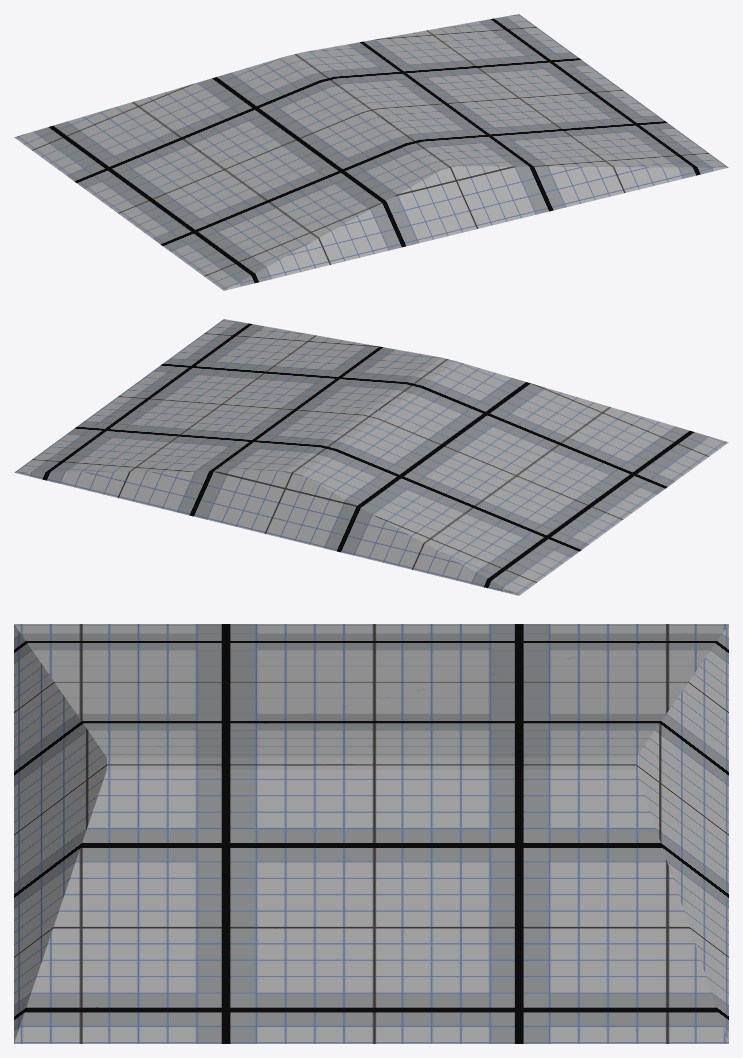
Rendered from gm_bump_03.dae.
The picture shows the model from 3 angles, top to bottom: view 1: azimuth 30°, elevation 25°; view 2: azimuth 150°, elevation 25°; view 3: azimuth 270°, elevation 25°; orthographic projection. The views are drawn at different scales.
Parts seen in each view (by area): view 1: ind_bld_c70; view 2: ind_bld_c70; view 3: ind_bld_c70.
Part boxes in pixels (x1=…): ind_bld_c70: x1=14, y1=14, x2=728, y2=290; ind_bld_c70: x1=14, y1=319, x2=728, y2=595; ind_bld_c70: x1=14, y1=624, x2=728, y2=1043.
Size of the model in its own units: 6.76 by 4.86 by 0.5271.
